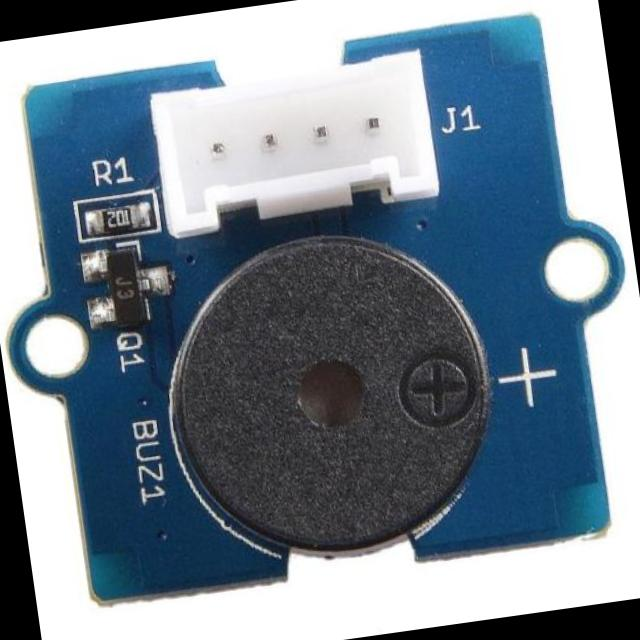connector: (141, 54, 445, 240)
resistor: (79, 194, 152, 246)
transistor: (72, 232, 176, 328)
